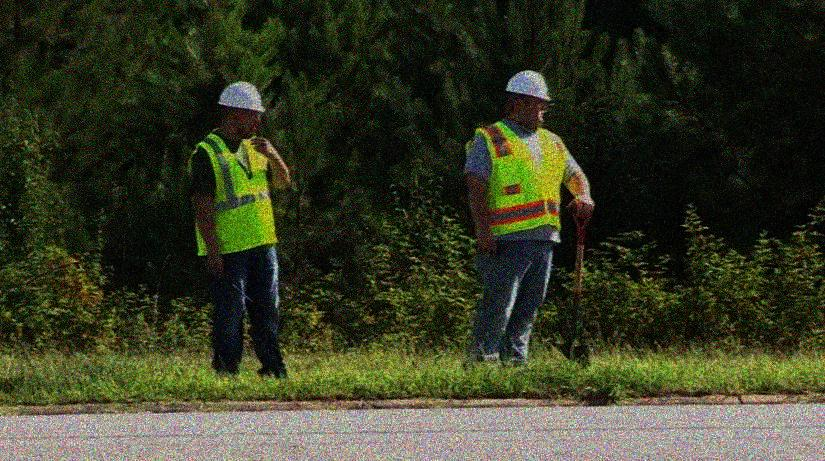helmet: (502, 69, 551, 135), (214, 80, 266, 141)
